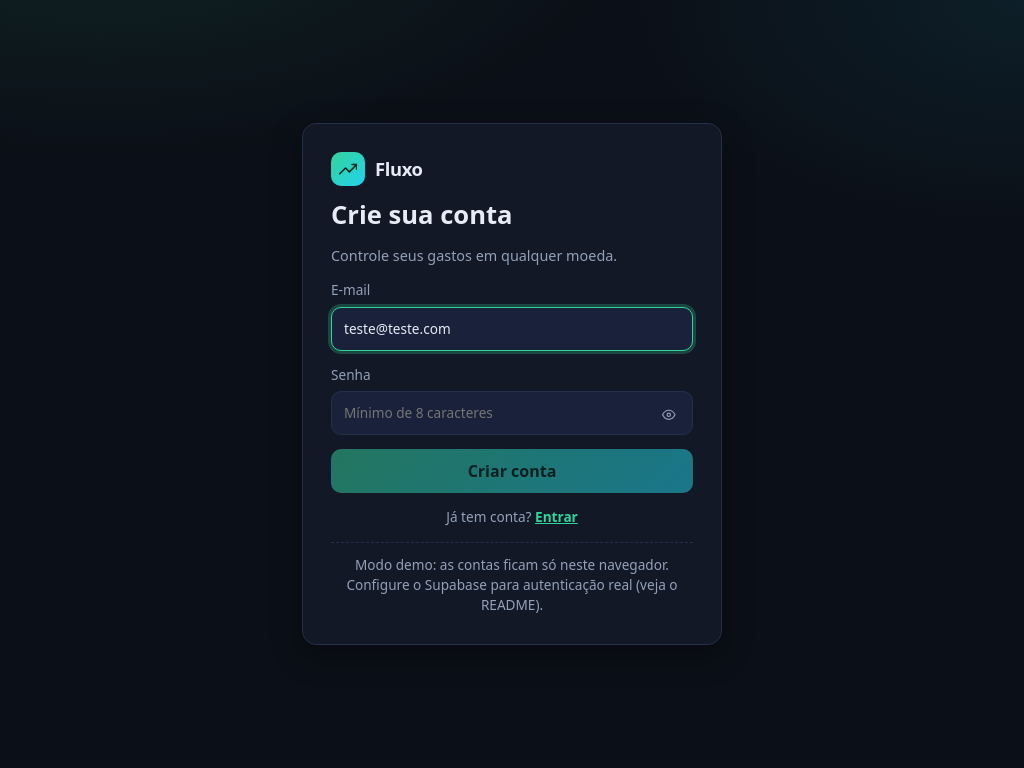
Test: Carteira › edita e exclui uma despesa, sem repetir ids
Earlier steps of the test are not shown.
Later steps or results of the test are not shown.
Type "12345678" into the password field with test id "password-input". click: (512, 413)
box: [331,391,693,435]
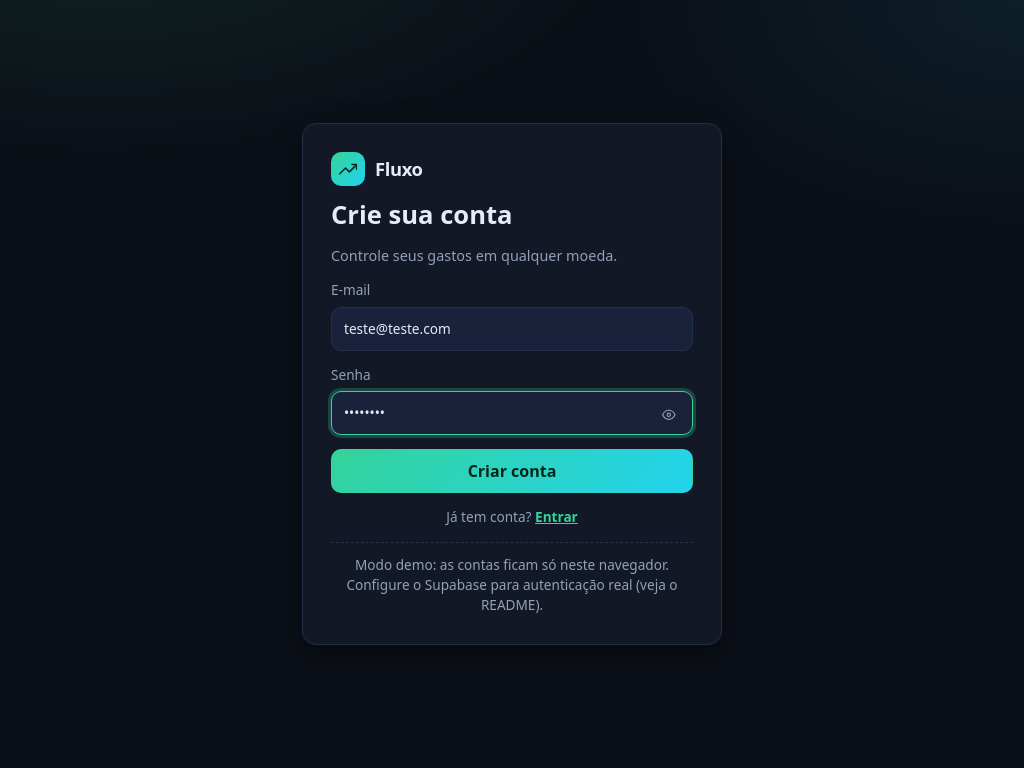
Click the button "Criar conta". click: (512, 471)
box: [331,449,693,493]
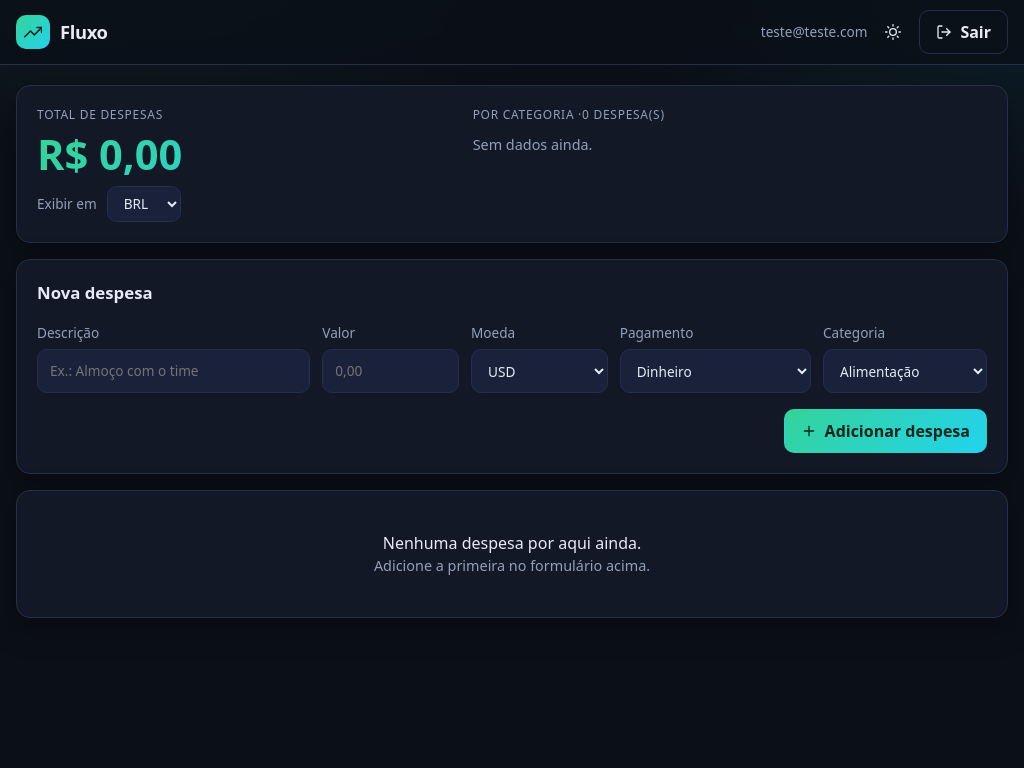
expect the text "R$ 0,00" is shown: met, box [37,132,433,178]
Type "10" into the number field with test id "value-input". click: (391, 371)
box: [322,349,459,393]
Type "Um" into the field with test id "description-input". click: (174, 371)
box: [37,349,310,393]
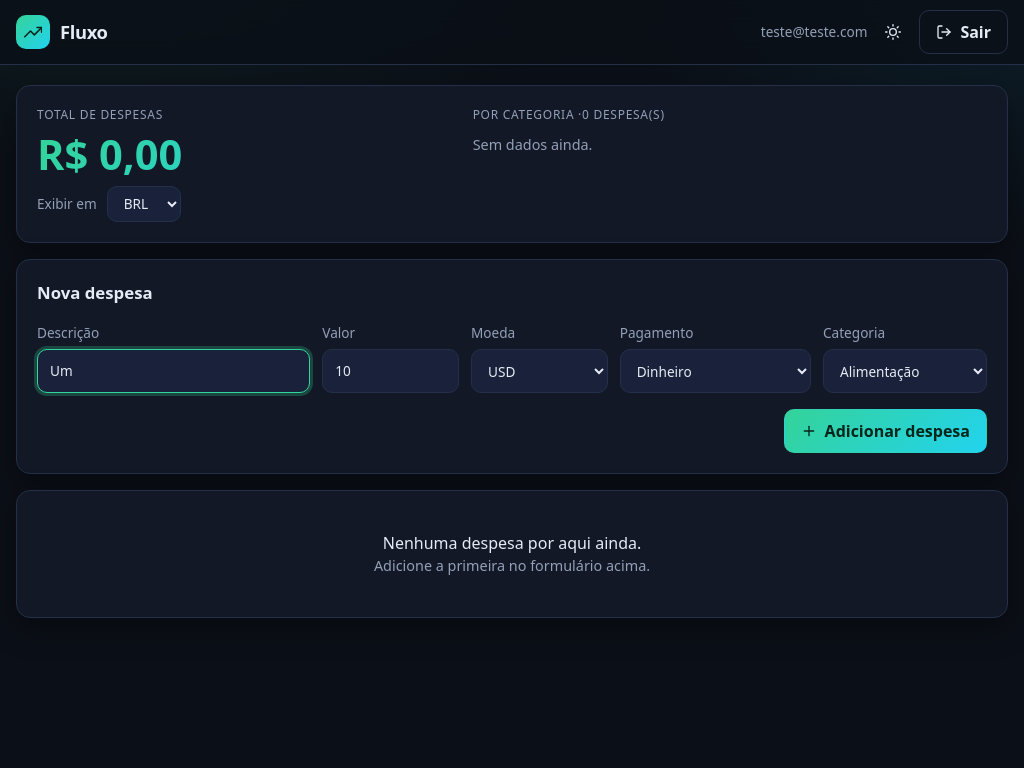
Click the button "Adicionar despesa". click: (885, 431)
box: [784,409,987,453]
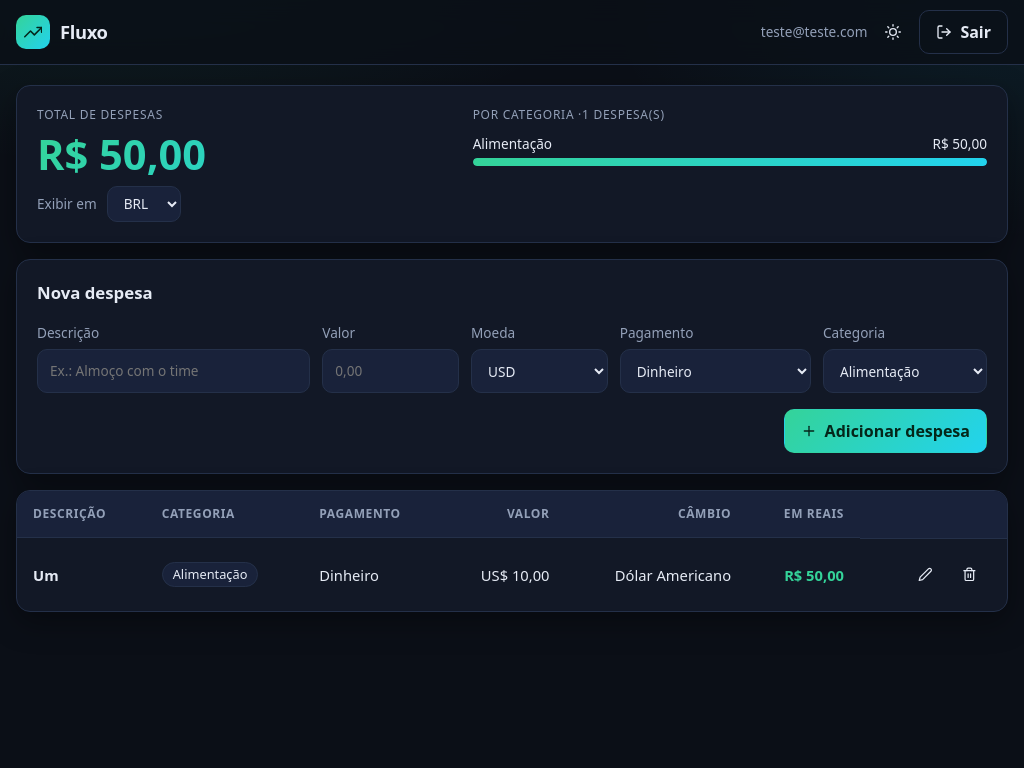
expect the text "Um" is shown: met, box [17,538,146,611]
Type "20" into the number field with test id "value-input". click: (391, 371)
box: [322,349,459,393]
Type "Dois" into the field with test id "description-input". click: (174, 371)
box: [37,349,310,393]
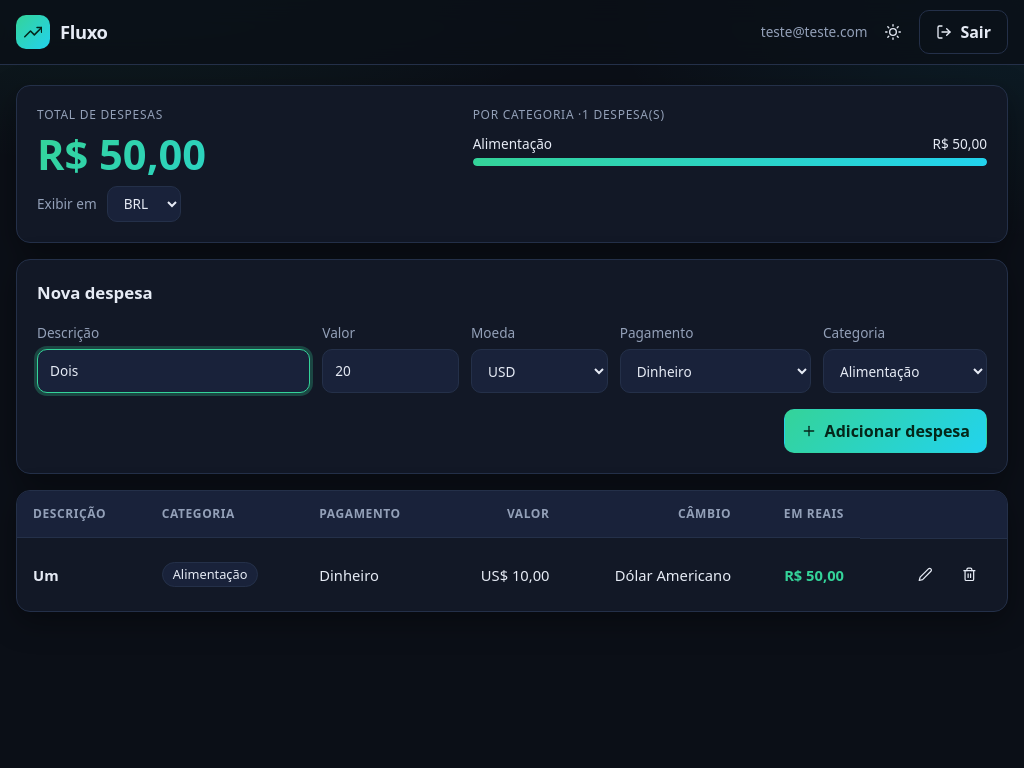
Click the button "Adicionar despesa". click: (885, 431)
box: [784,409,987,453]
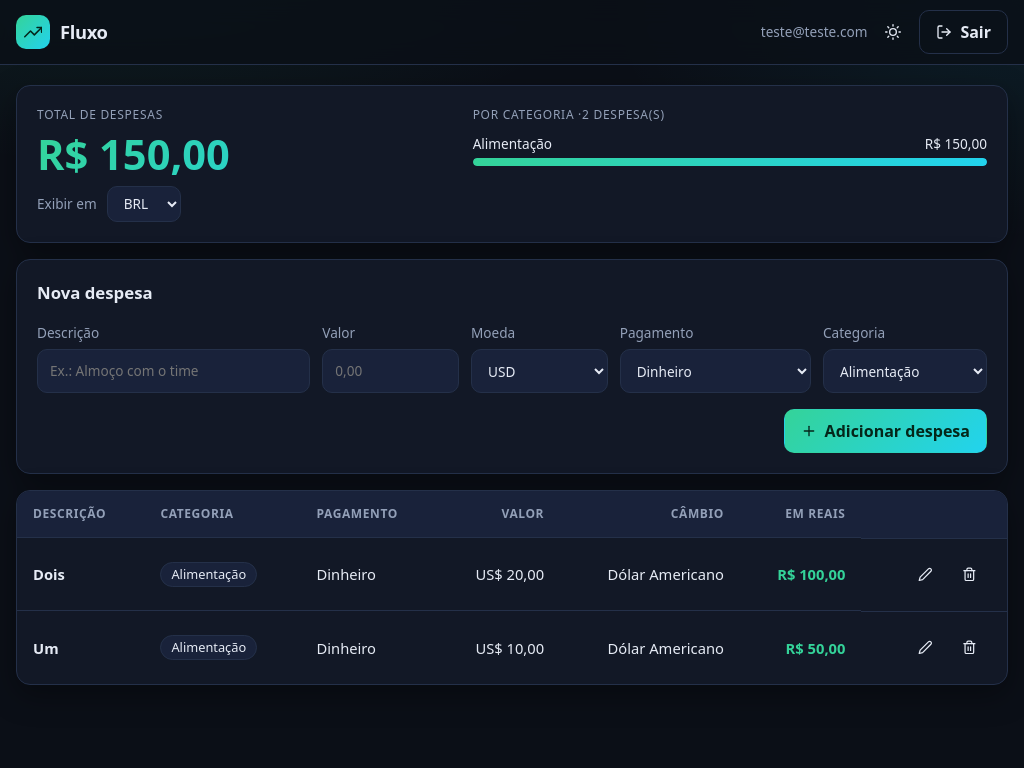
expect the text "Dois" is shown: met, box [17,538,144,611]
